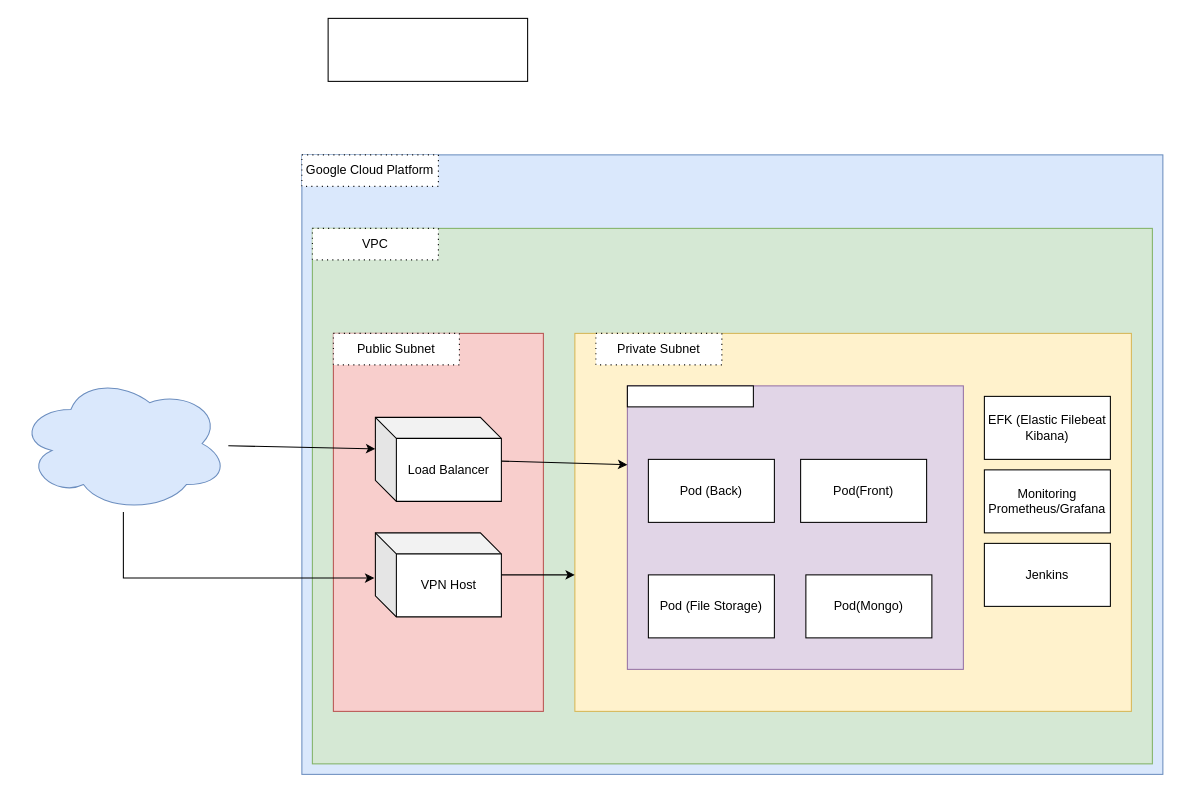
Some shapes in this 1181 by 793 pixel diagram are drawn without their labels. Here are the shapes that lost their labels. From the top down, the centre of each, then its label:
[689,396]: K8s Cluster
[122,443]: Internet
